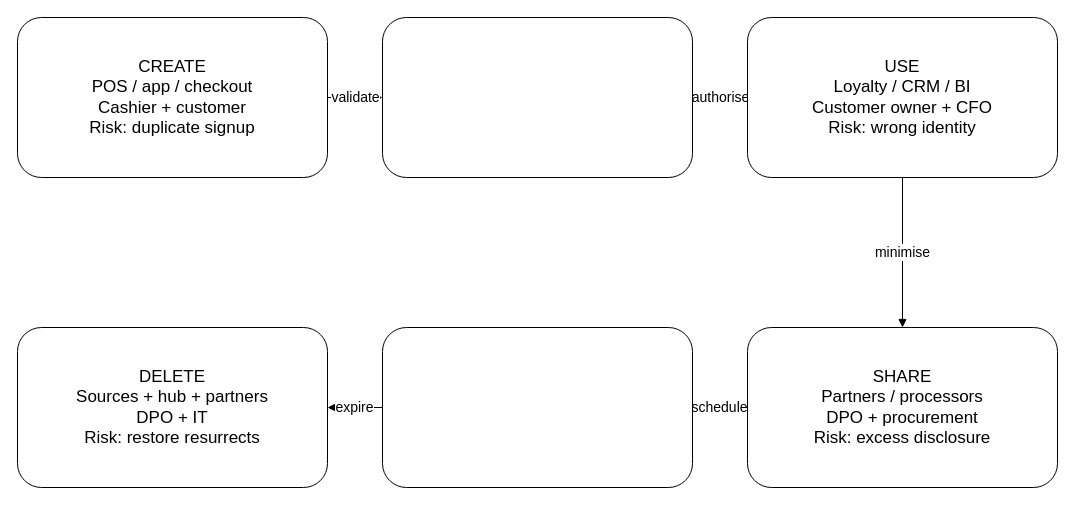
Some shapes in this 1075 by 505 pixel diagram are drawn without their labels. The centre of each missing label's shape, as x and y in pixels:
ARCHIVE Restricted backups IT + record owner Risk: indefinite copies: [537,407]
STORE Local DB + shared hub IT manager Risk: exposed export: [537,97]
